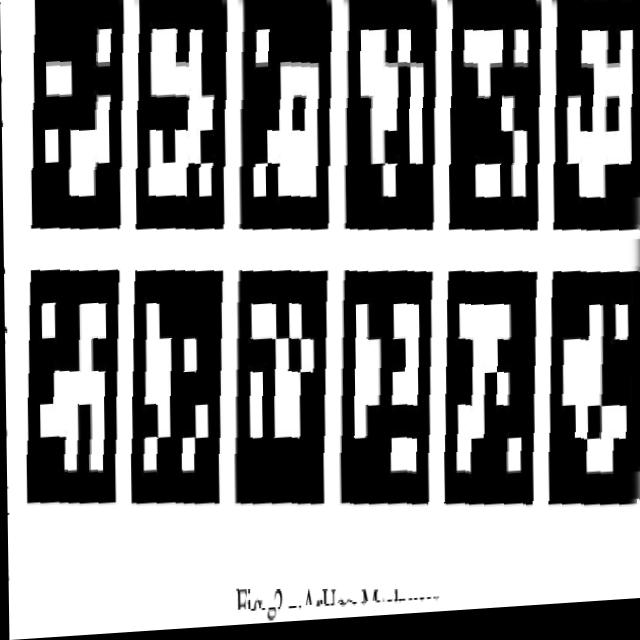aruco: (11, 0, 640, 624)
